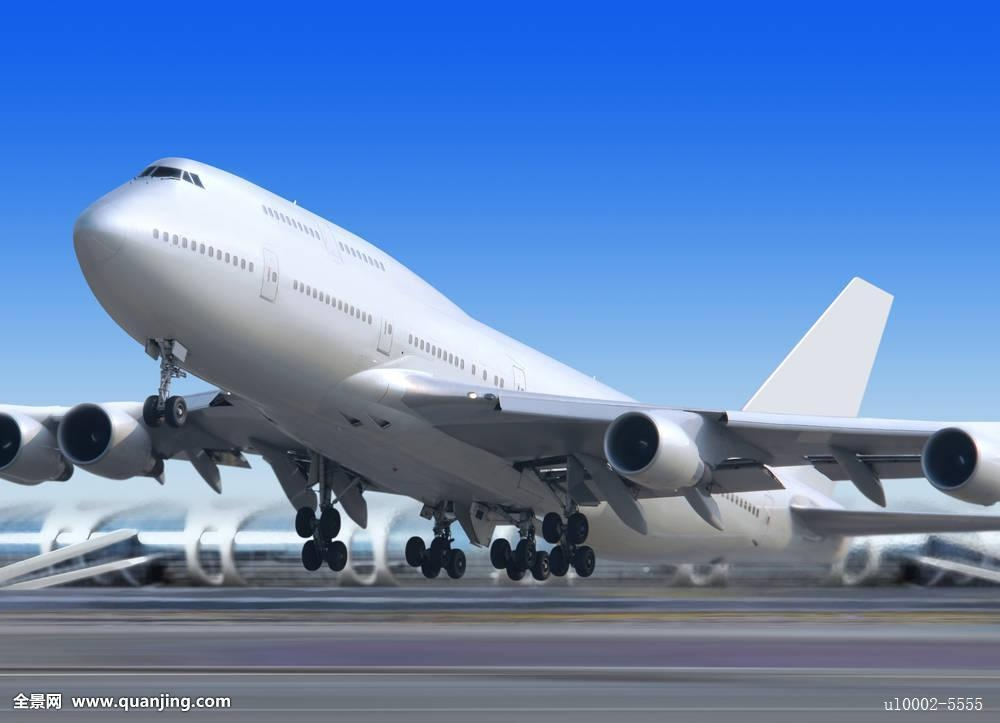airplane: (6, 148, 1000, 595)
